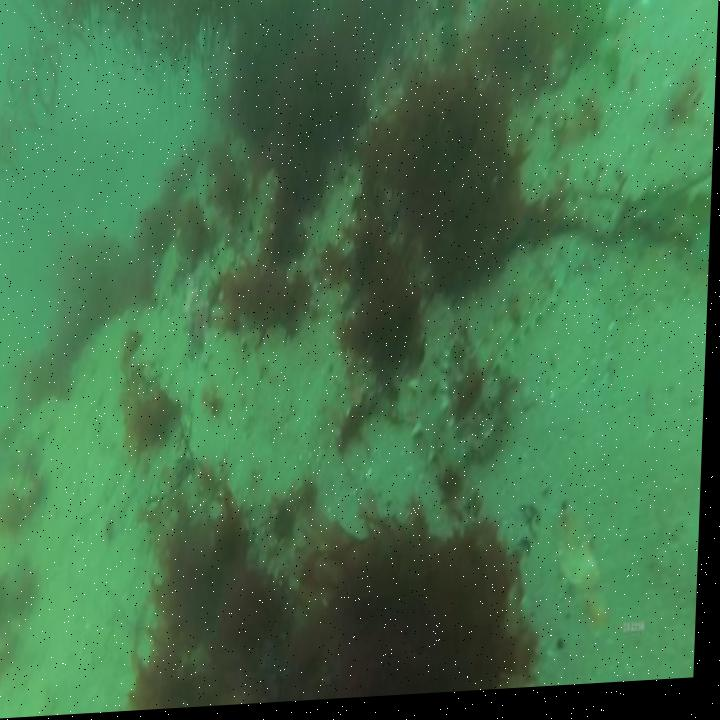holothurian: (470, 266, 567, 379), (437, 326, 512, 471)
